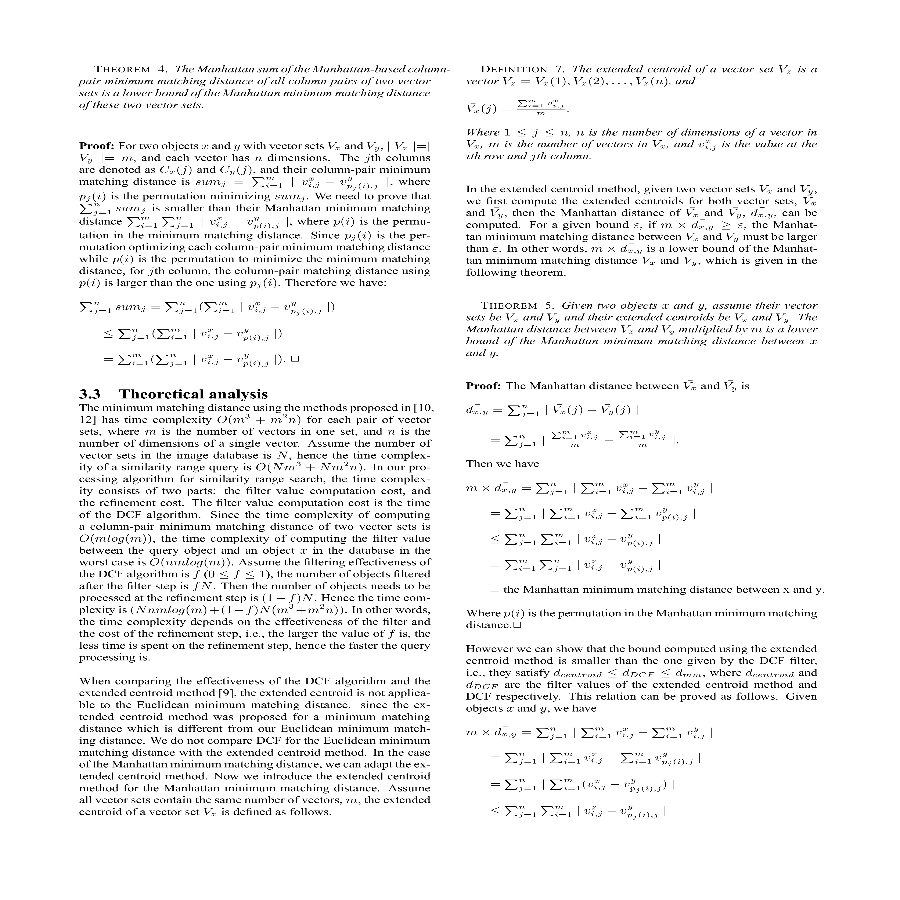eq: (464, 720, 716, 824), (467, 477, 717, 577), (77, 295, 339, 371), (462, 401, 676, 453), (465, 93, 575, 123)
